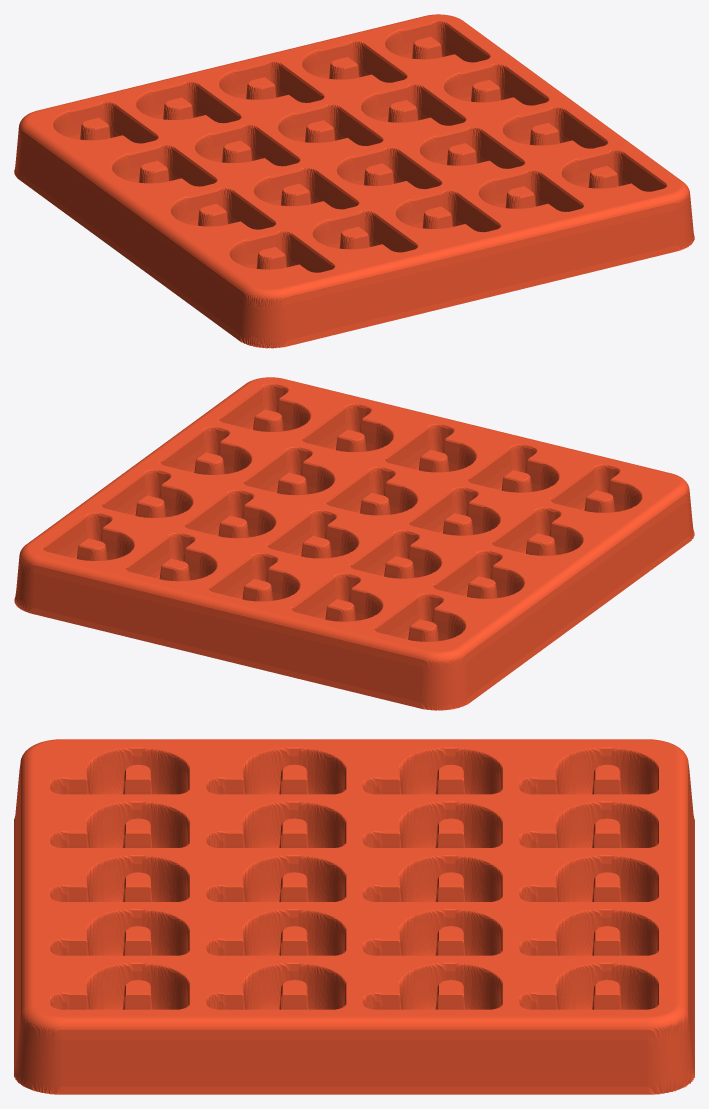
Rendered from mold.glb.
3 renders of one model, top to bottom at view 1: azimuth 30°, elevation 25°; view 2: azimuth 150°, elevation 25°; view 3: azimuth 270°, elevation 25°, orthographic. The views are drawn at different scales.
Visible parts, largest first — view 1: geometry_0; view 2: geometry_0; view 3: geometry_0.
Boxes of the visible parts, left/top/right/bottom form: geometry_0: left=14, top=14, right=694, bottom=348; geometry_0: left=14, top=377, right=694, bottom=710; geometry_0: left=14, top=739, right=694, bottom=1094.
Bounding box in the file's own units: 0.1298 × 0.0145 × 0.1278.
